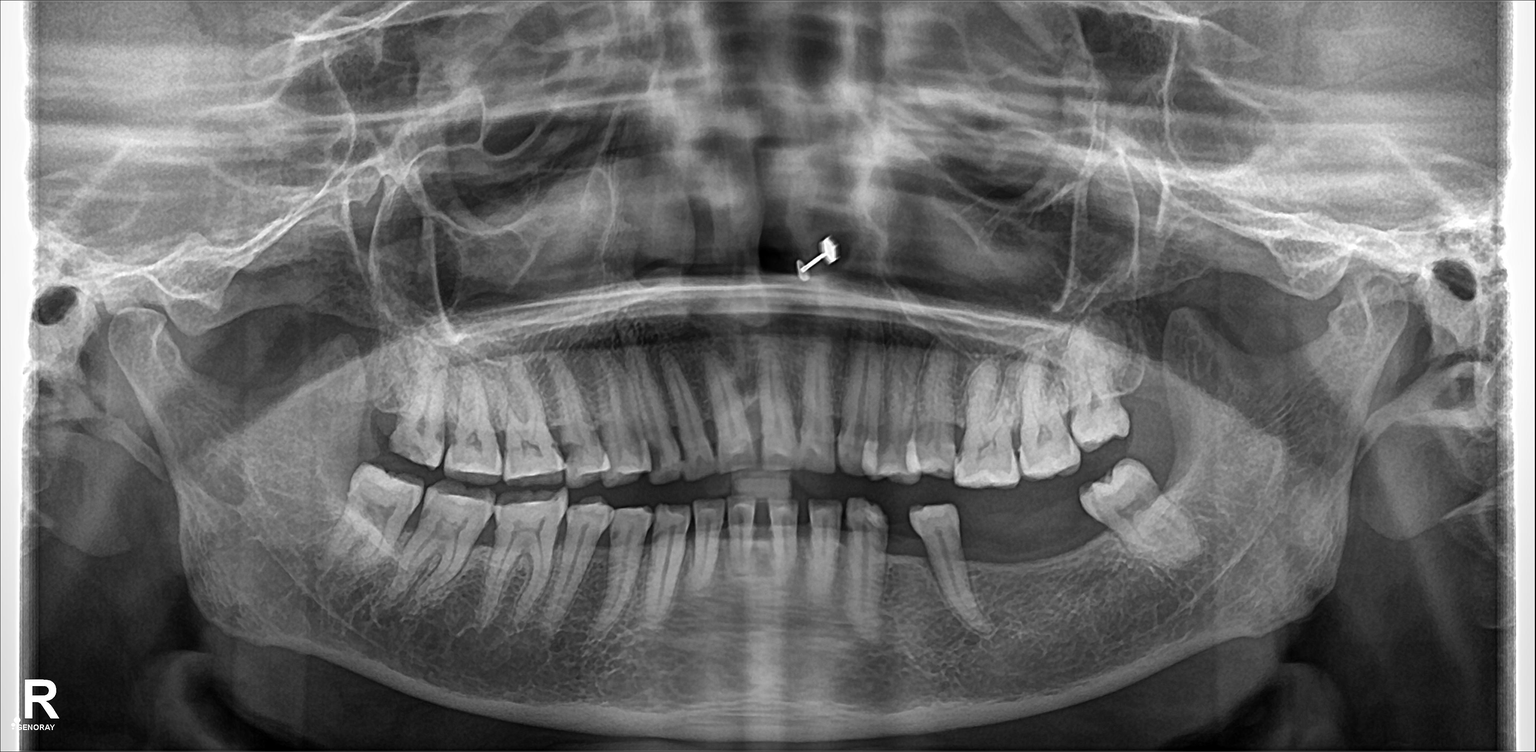Missing Tooth: (961, 493, 1012, 587), (1021, 495, 1070, 591), (1117, 344, 1174, 426), (888, 523, 930, 612)
